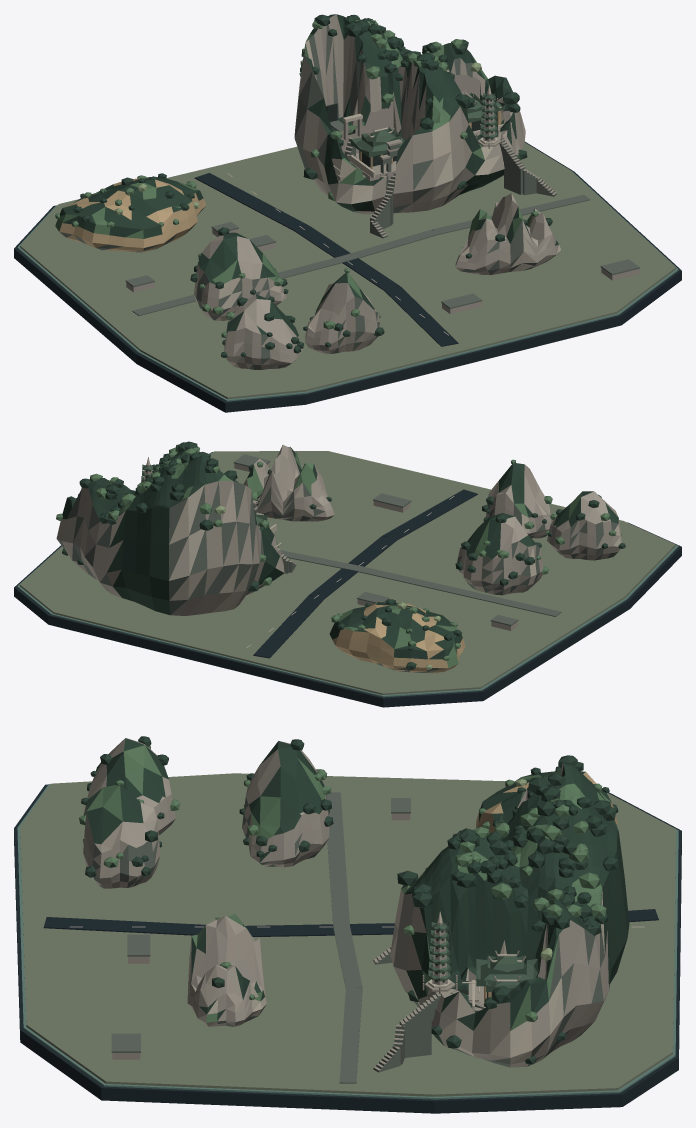
File: nguhanhson.glb
The picture shows the model from 3 angles, top to bottom: view 1: azimuth 30°, elevation 25°; view 2: azimuth 150°, elevation 25°; view 3: azimuth 270°, elevation 25°; orthographic projection. The views are drawn at different scales.
Parts seen in each view (by area): view 1: BASE, THUY_SON, VEGETATION, THO_SON, MOC_SON, KIM_SON, DUONG_HOA_SON, AM_HOA_SON, TEMPLES, STAIRS_AND_PATHS, XA_LOI_TOWER, CAVE_HUYEN_KHONG; view 2: BASE, THUY_SON, VEGETATION, THO_SON, KIM_SON, MOC_SON, DUONG_HOA_SON, AM_HOA_SON; view 3: BASE, THUY_SON, VEGETATION, KIM_SON, MOC_SON, AM_HOA_SON, DUONG_HOA_SON, STAIRS_AND_PATHS, TEMPLES, XA_LOI_TOWER, THO_SON.
Part boxes in pixels (<box>): BASE: <box>14,141,681,412</box>; THUY_SON: <box>294,14,525,214</box>; VEGETATION: <box>55,14,552,357</box>; THO_SON: <box>55,176,206,252</box>; MOC_SON: <box>455,193,560,275</box>; KIM_SON: <box>194,232,286,321</box>; DUONG_HOA_SON: <box>224,294,302,369</box>; AM_HOA_SON: <box>305,273,381,353</box>; TEMPLES: <box>350,89,511,181</box>; STAIRS_AND_PATHS: <box>333,124,556,238</box>; XA_LOI_TOWER: <box>476,85,502,148</box>; CAVE_HUYEN_KHONG: <box>326,103,362,140</box>; BASE: <box>14,451,681,707</box>; THUY_SON: <box>56,450,284,615</box>; VEGETATION: <box>56,441,625,669</box>; THO_SON: <box>329,602,465,673</box>; KIM_SON: <box>457,513,543,595</box>; MOC_SON: <box>243,445,334,521</box>; DUONG_HOA_SON: <box>547,491,621,560</box>; AM_HOA_SON: <box>486,463,552,538</box>; BASE: <box>14,773,681,1113</box>; THUY_SON: <box>390,762,629,1067</box>; VEGETATION: <box>79,736,618,1064</box>; KIM_SON: <box>242,741,329,867</box>; MOC_SON: <box>187,913,266,1026</box>; AM_HOA_SON: <box>83,785,160,888</box>; DUONG_HOA_SON: <box>83,738,175,834</box>; STAIRS_AND_PATHS: <box>373,946,485,1072</box>; TEMPLES: <box>418,877,537,1012</box>; XA_LOI_TOWER: <box>422,911,457,994</box>; THO_SON: <box>476,771,617,833</box>.
Bounding box in the file's own units: 24.8 × 8.18 × 21.4.
